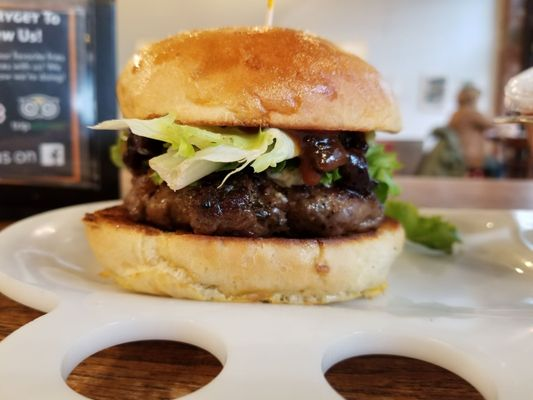soup: (81, 23, 413, 304)
